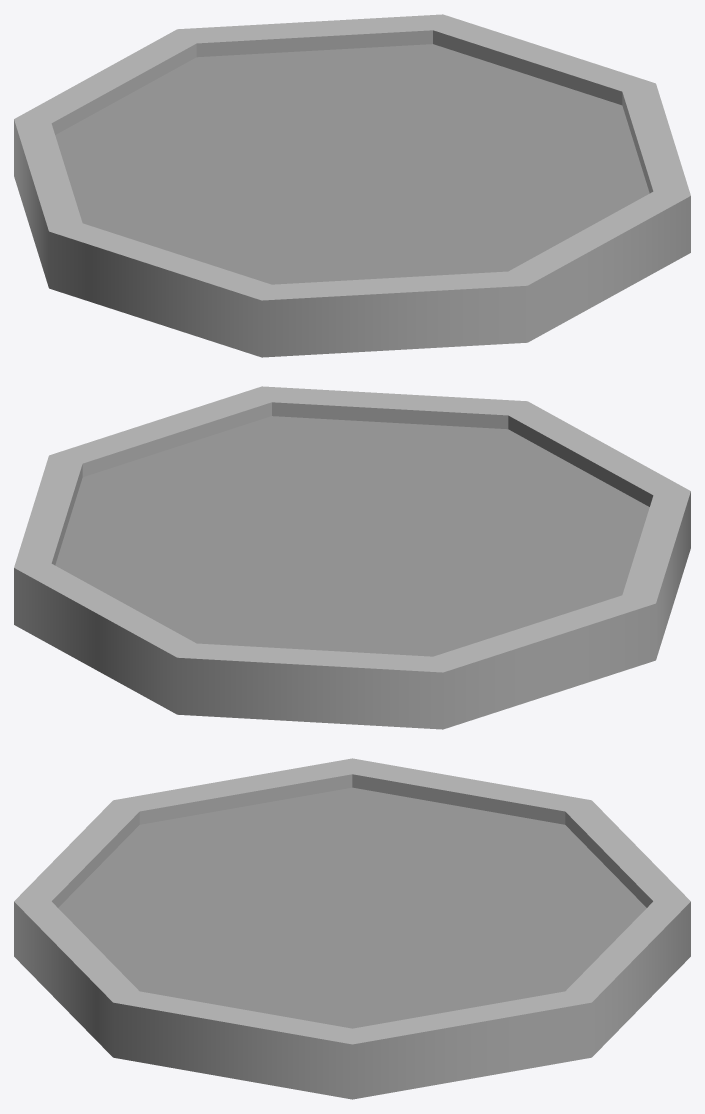
The model's file is SM_Cover_01.FBX.
3 views of the same model, one above another, from view 1: azimuth 30°, elevation 25°; view 2: azimuth 150°, elevation 25°; view 3: azimuth 270°, elevation 25° (orthographic). The views are drawn at different scales.
Parts seen in each view (by area): view 1: SM_Cover_01; view 2: SM_Cover_01; view 3: SM_Cover_01.
Part boxes in pixels (<box>): SM_Cover_01: <box>14,14,690,357</box>; SM_Cover_01: <box>14,386,690,729</box>; SM_Cover_01: <box>14,758,690,1099</box>.
Size of the model in its own units: 0.9637 by 0.0865 by 0.9637.
Materials: 1 (1 with a texture image).
